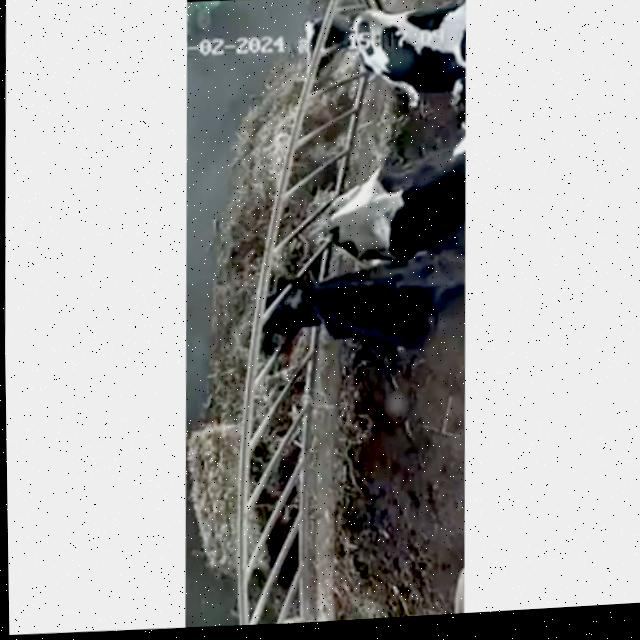eat: (258, 0, 431, 115), (229, 255, 395, 363)
